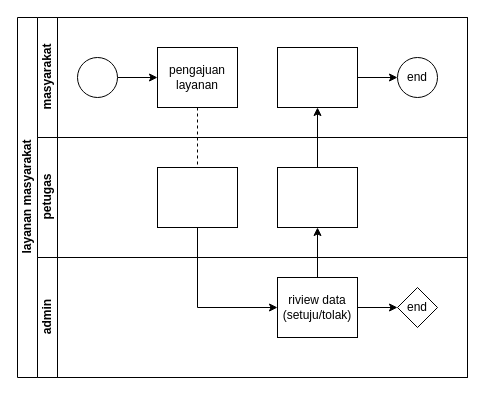
This 485x395 diagram has some shape labels left out. Each missing label, with the centre of its shape:
"login" belongs at [97,77].
"melihat hasil layanan" belongs at [317,77].
"mengecek data masyarakat" belongs at [197,197].
"persetujun layanan (terima, tolak, diproses)" belongs at [317,197].
